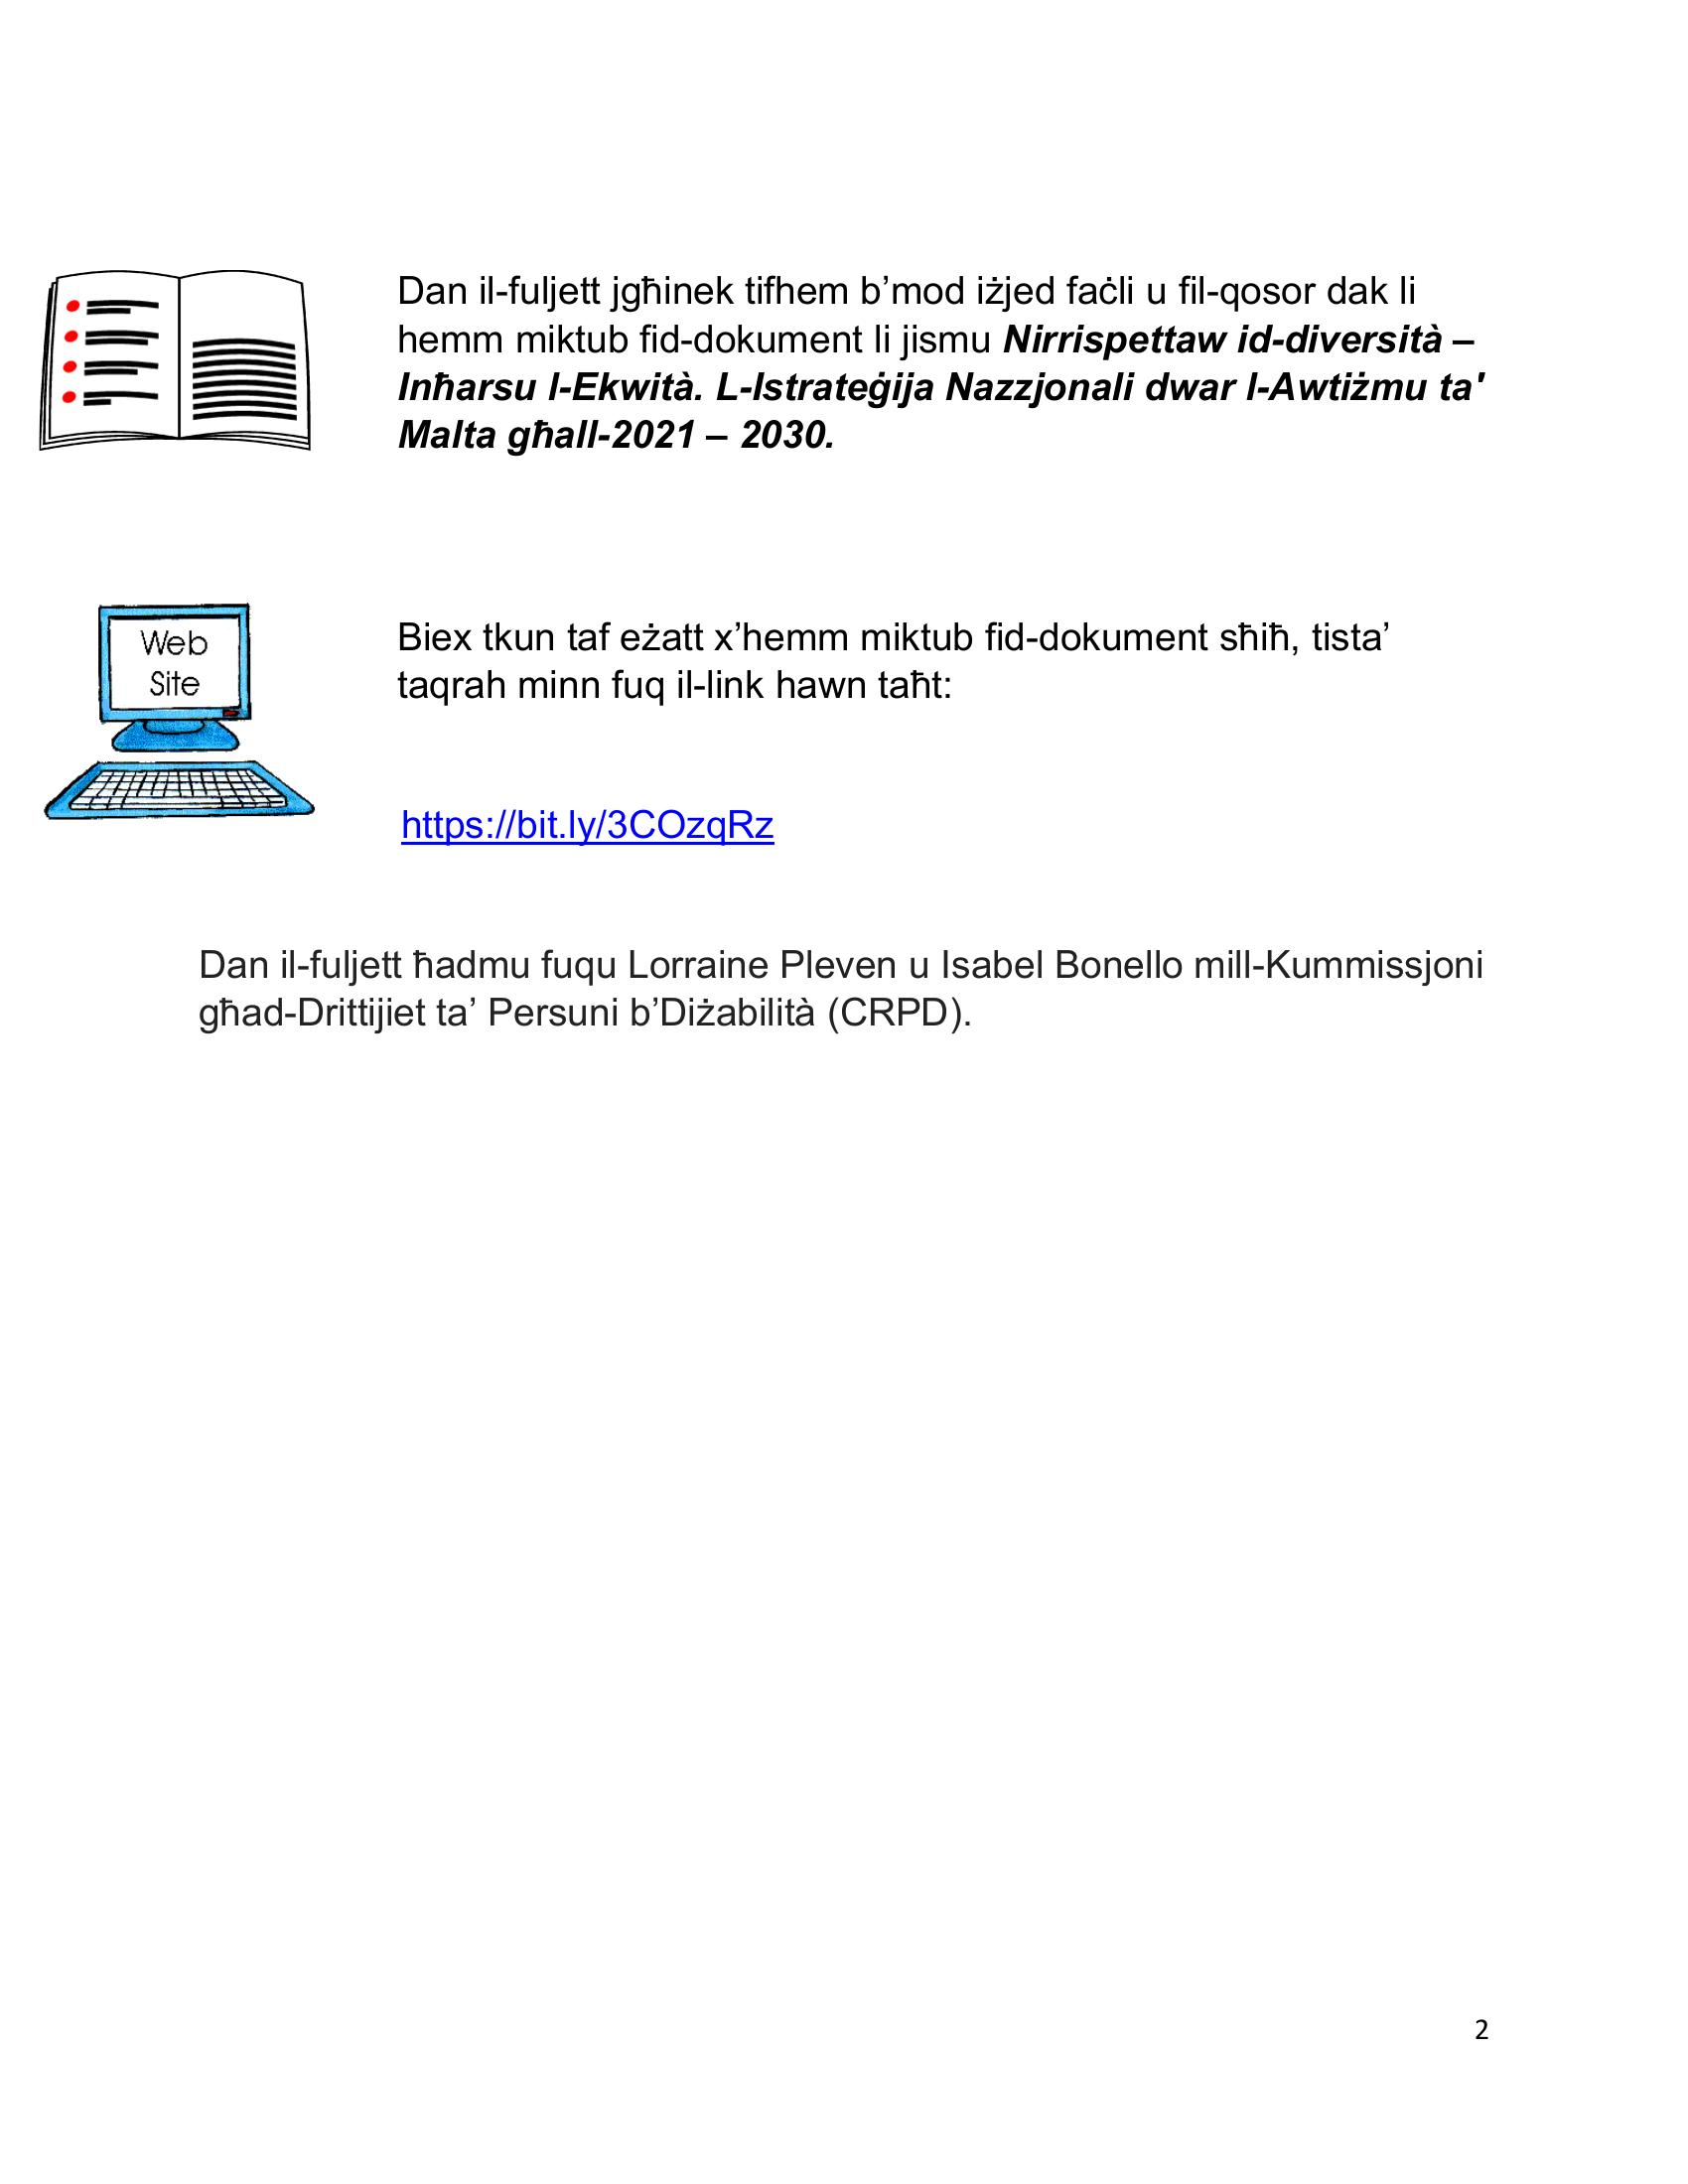text: (383, 596, 1504, 883), (181, 922, 1502, 1046)
